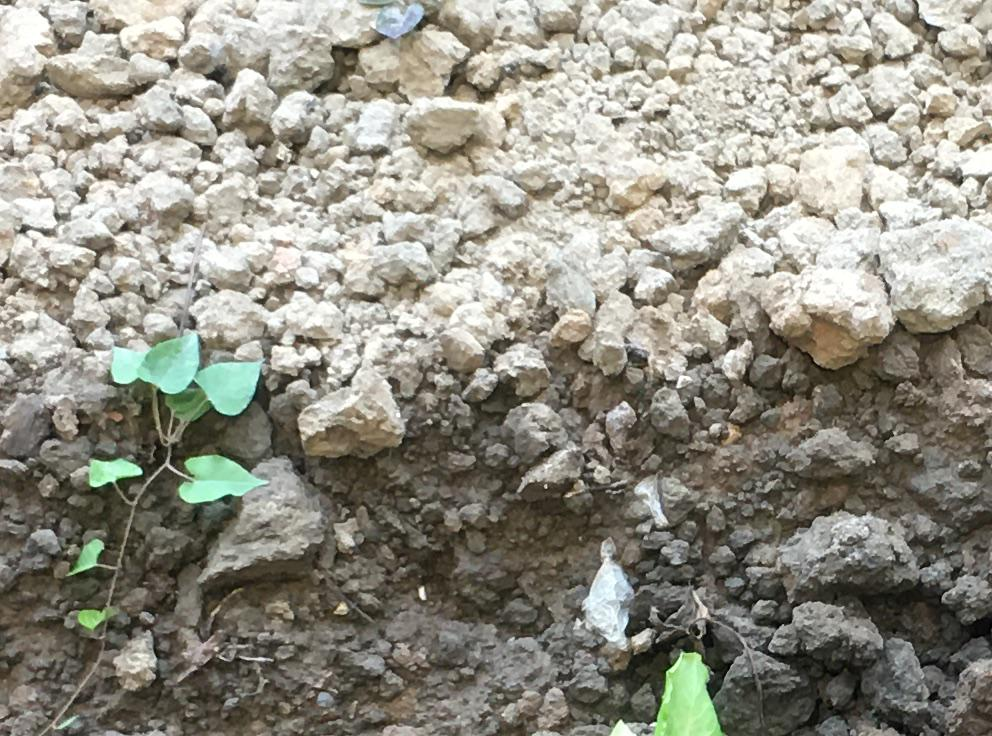block: (201, 455, 332, 580), (753, 258, 884, 375), (781, 509, 927, 608), (875, 216, 992, 328), (295, 370, 402, 463)
